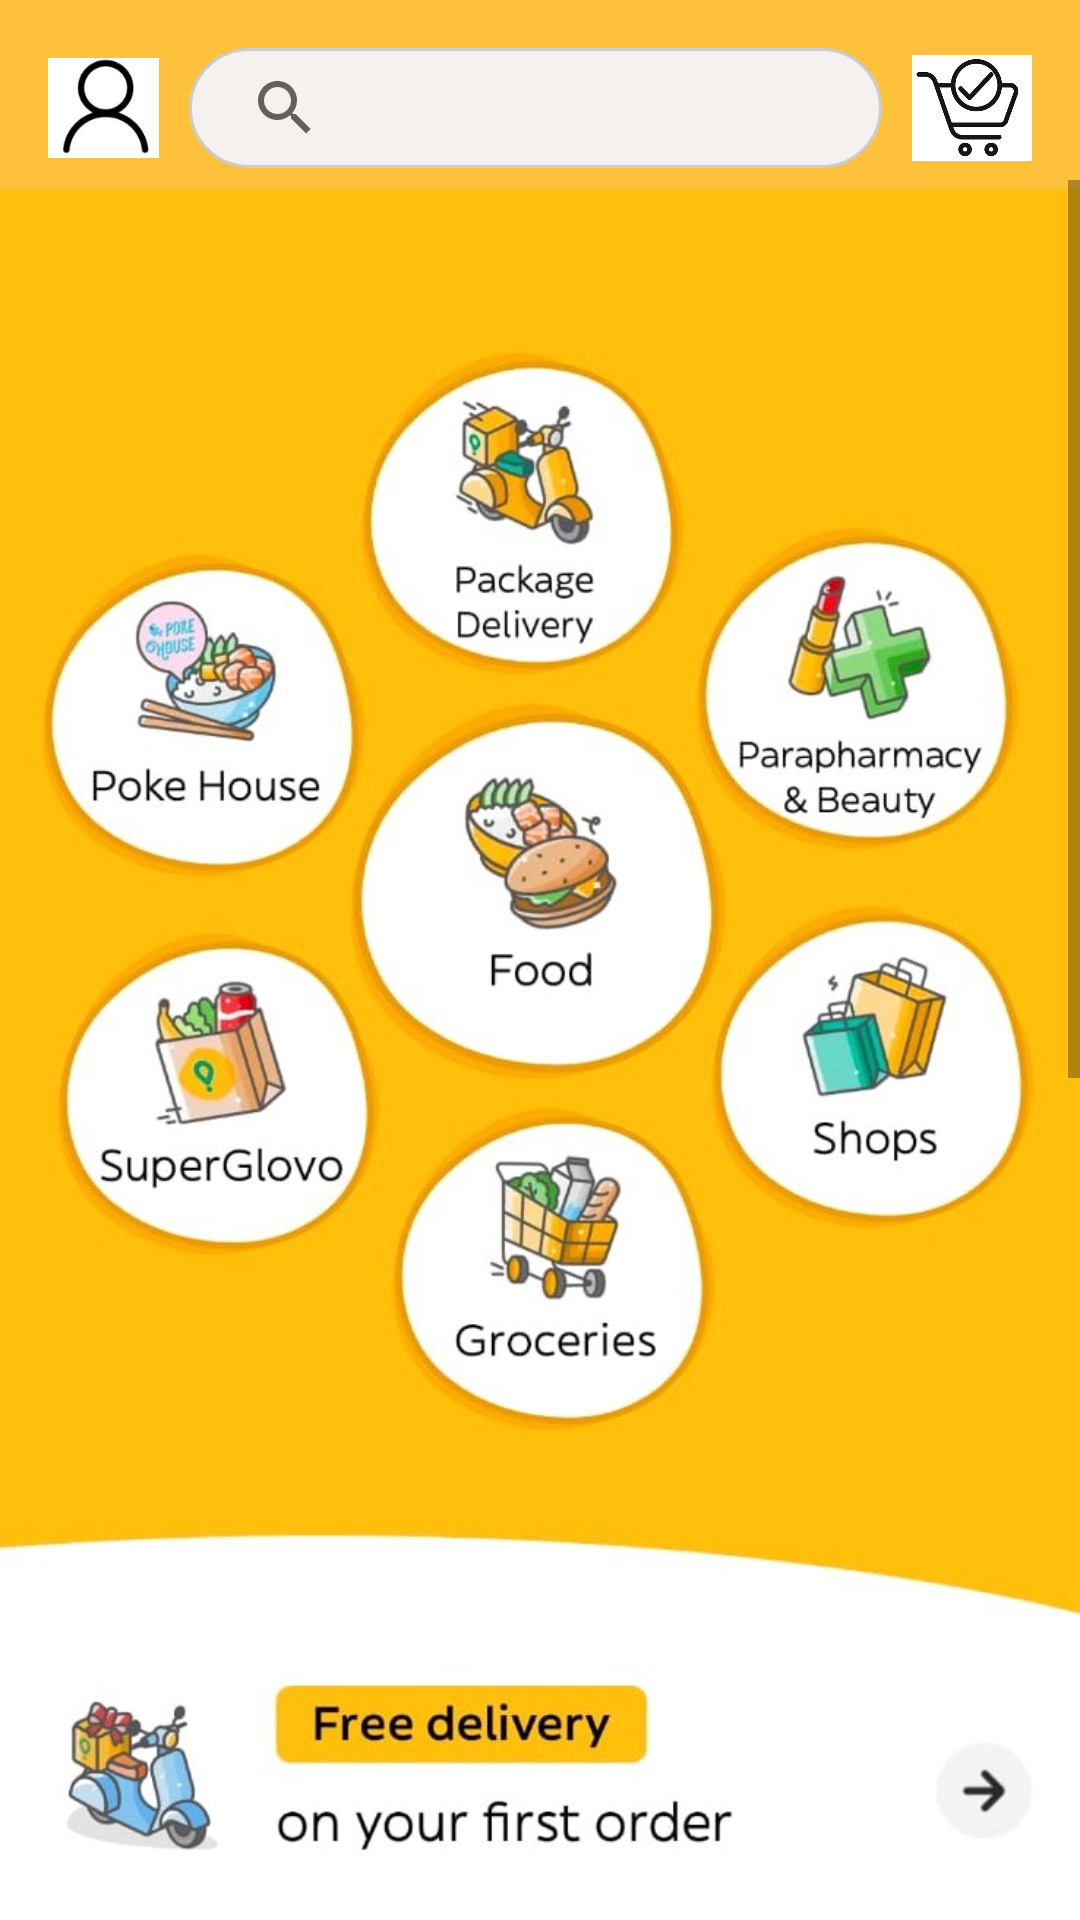

Screen size 1080 × 1920. Icon name, then its box in pixels as (x1, y1, x2, y2):
Cart: (912, 55, 1032, 161)
Profile Icon: (48, 58, 159, 158)
